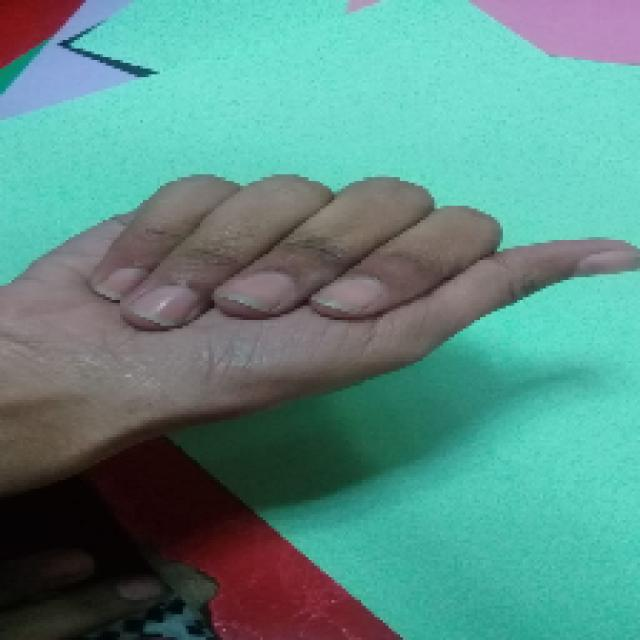Nail: (131, 285, 198, 327), (312, 275, 385, 312), (220, 274, 292, 311), (96, 268, 149, 301), (574, 250, 640, 276)
